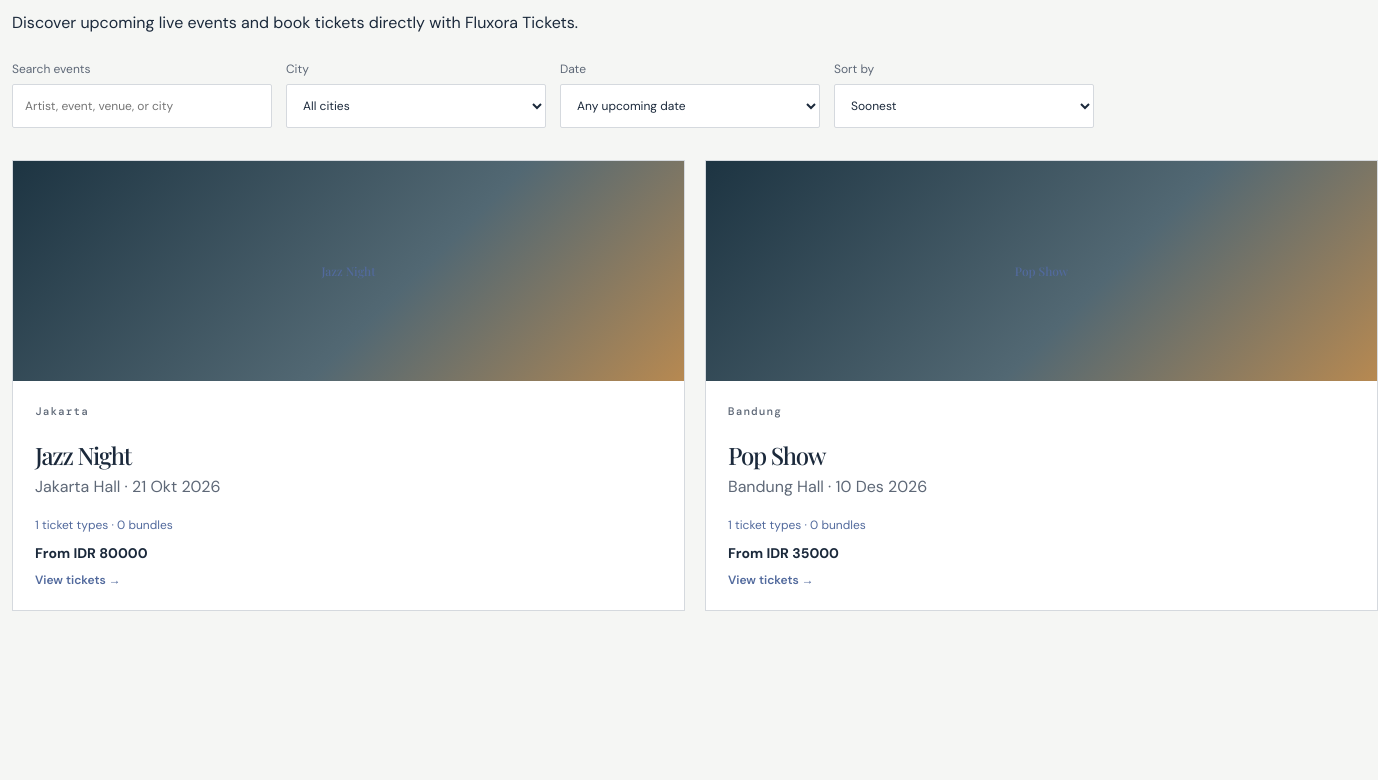
Test: event catalogue › limits events to the selected upcoming date window
Select "Next 30 days" in the dropdown labelled "Date" at {"x": 690, "y": 106}, box [560,84,820,128]
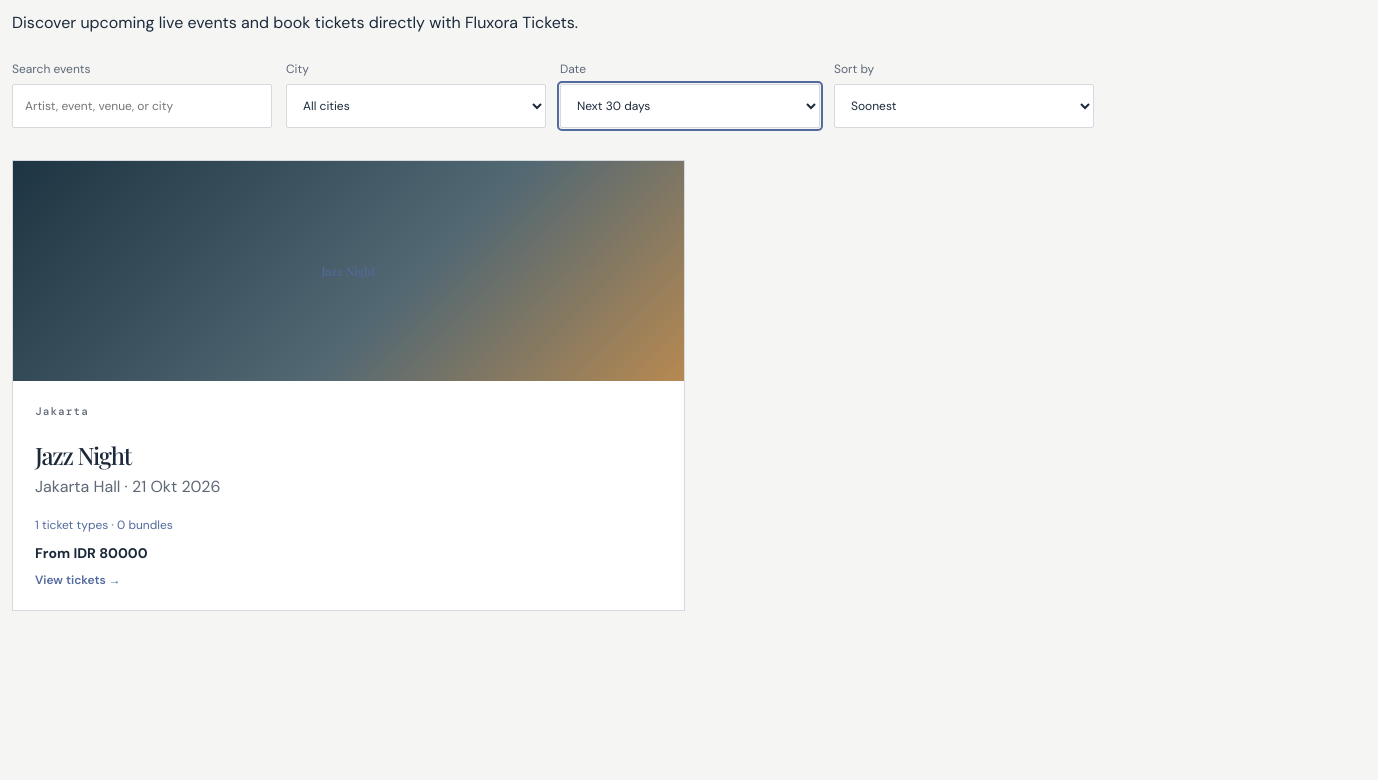
expect the link "Jazz Night" is shown: met, box [12,160,685,611]
expect the link "Pop Show" is gone: met
